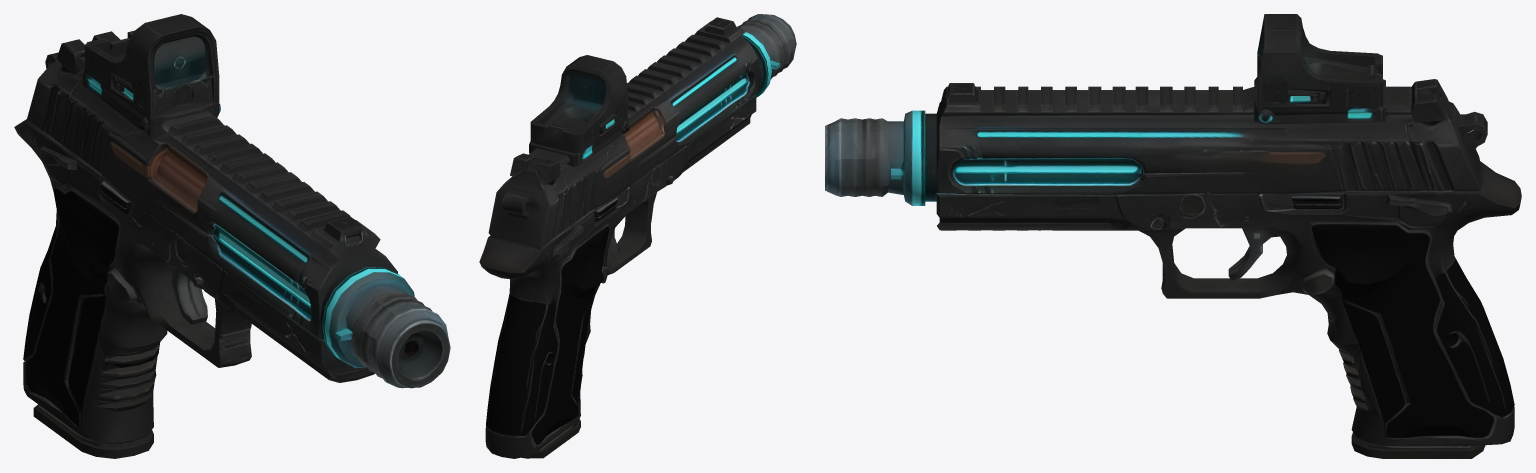
The model's file is nova_gun.glb.
3 renders of one model, left to right at view 1: azimuth 30°, elevation 25°; view 2: azimuth 150°, elevation 25°; view 3: azimuth 270°, elevation 25°, orthographic. The views are drawn at different scales.
Visible parts, largest first — view 1: model; view 2: model; view 3: model.
Part boxes in pixels (<box>): model: <box>14,14,450,458</box>; model: <box>479,14,796,458</box>; model: <box>825,14,1521,458</box>.
Bounding box in the file's own units: 0.2928 × 1.27 × 1.9.
Materials: 1 (1 with a texture image).
